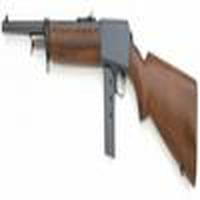gun: (2, 11, 195, 193)
